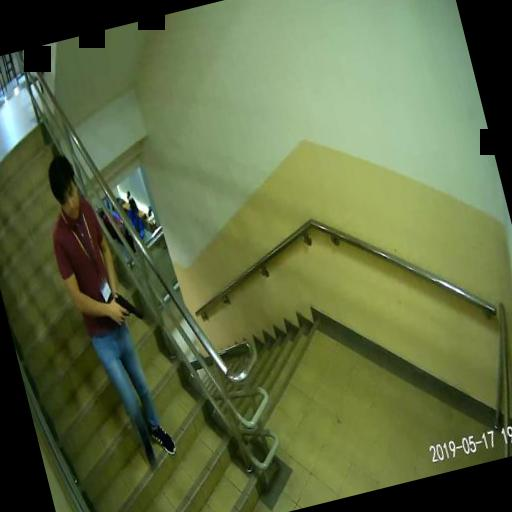Handgun: (114, 290, 142, 324)
